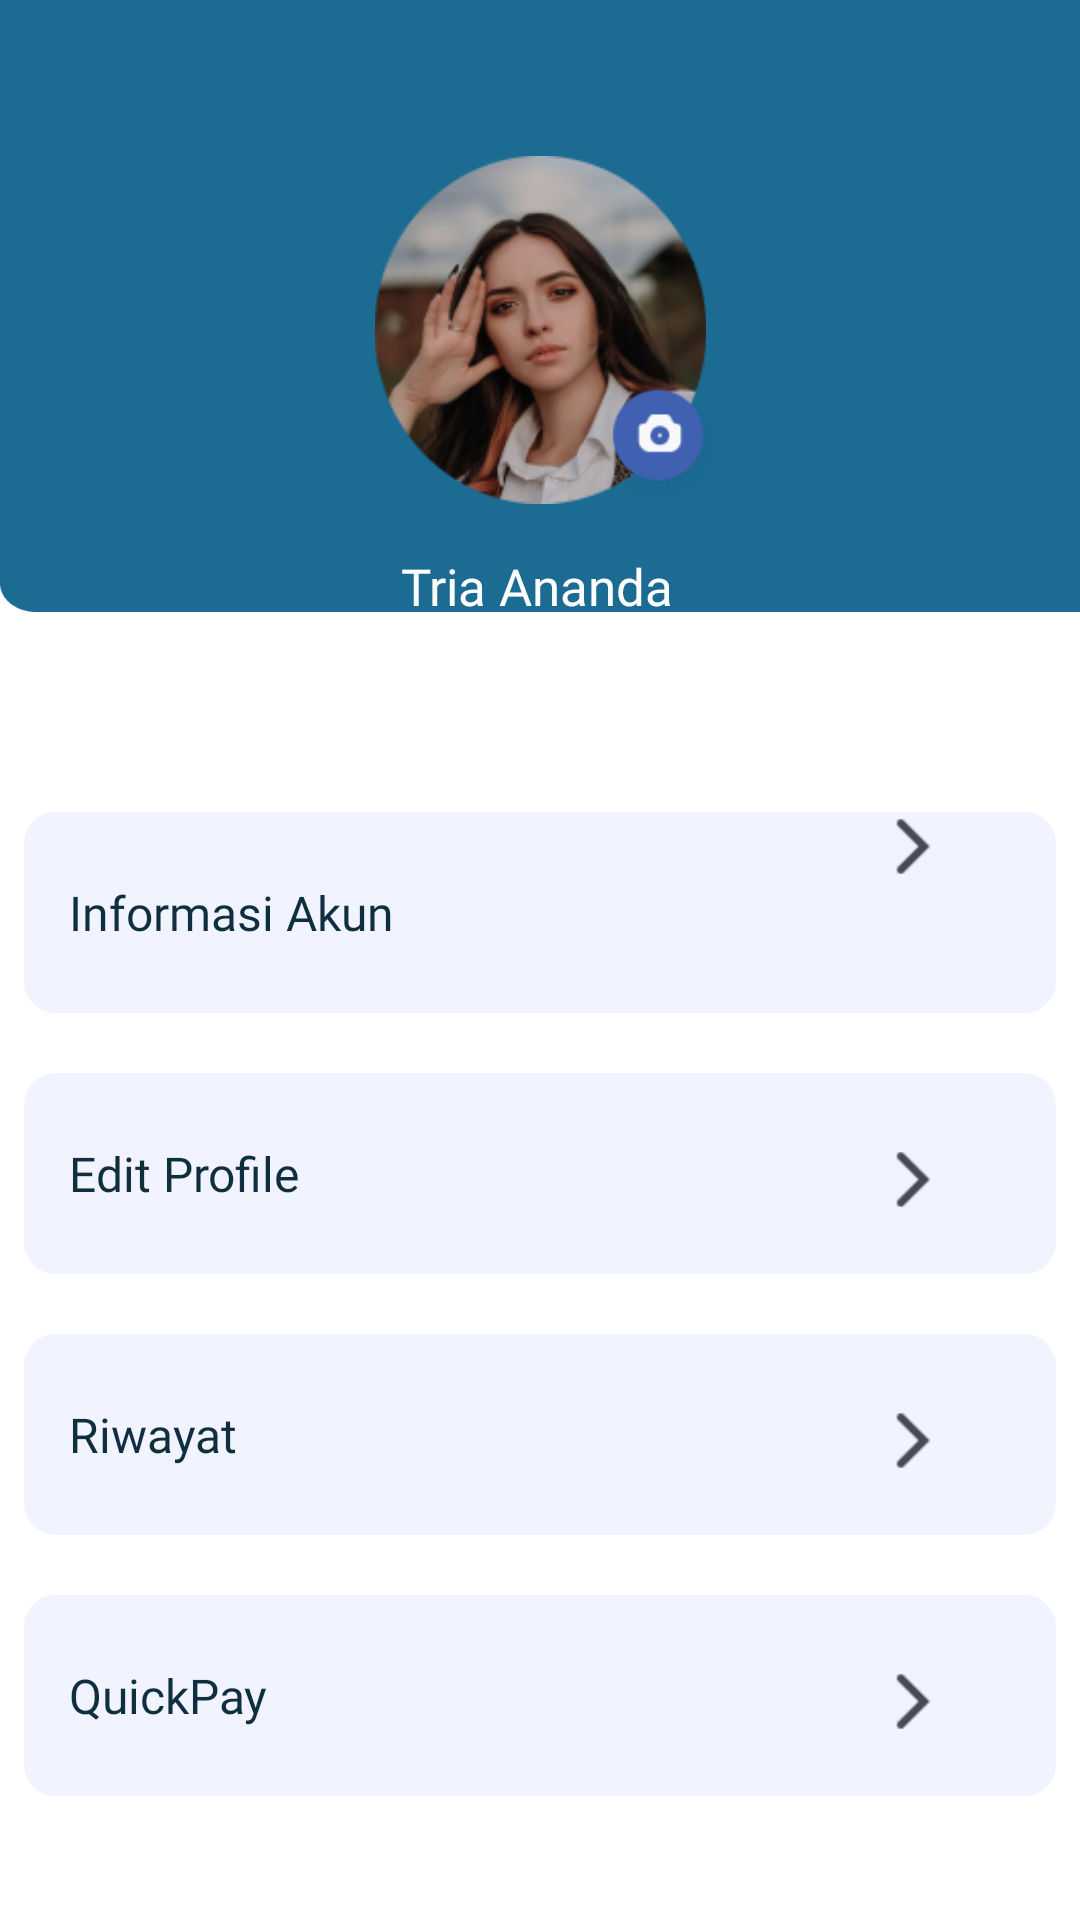

Named icons in this screenshot (1080w x 1920h) and their bounding boxes, (x1, y1, x2, y2):
next: (896, 819, 930, 874), (896, 1152, 930, 1207), (896, 1413, 930, 1468), (896, 1674, 930, 1729)
